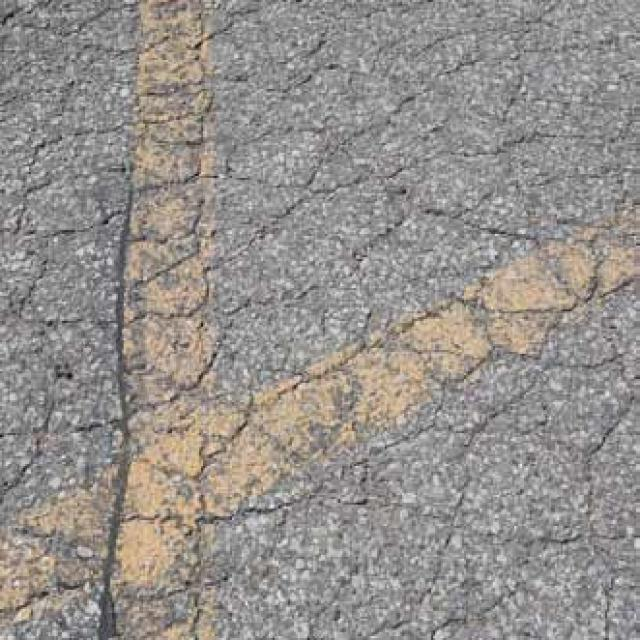Drain Hole: (108, 24, 631, 586)
